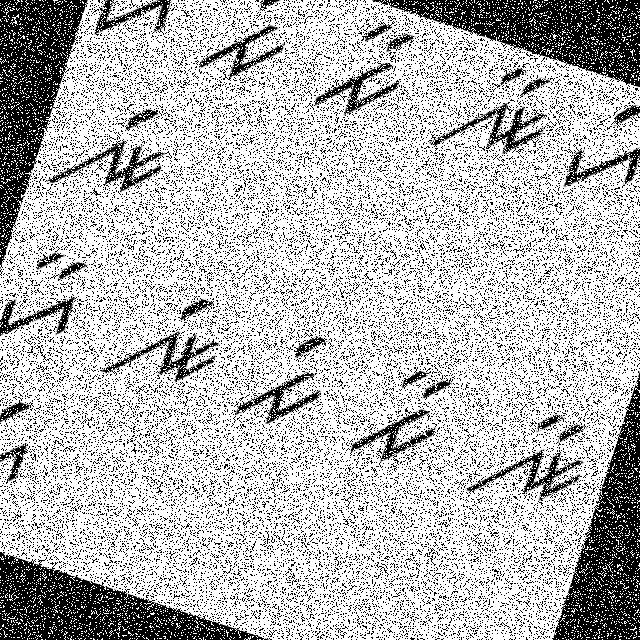han: (0, 236, 97, 365), (86, 0, 201, 62)
hang: (550, 78, 639, 214), (0, 378, 54, 510)
mban: (299, 2, 424, 136), (344, 347, 459, 486)
mbang: (224, 315, 348, 449), (186, 0, 307, 98)
ndan: (415, 36, 564, 187), (464, 384, 607, 528)
ndang: (38, 78, 185, 228), (94, 270, 236, 410)
